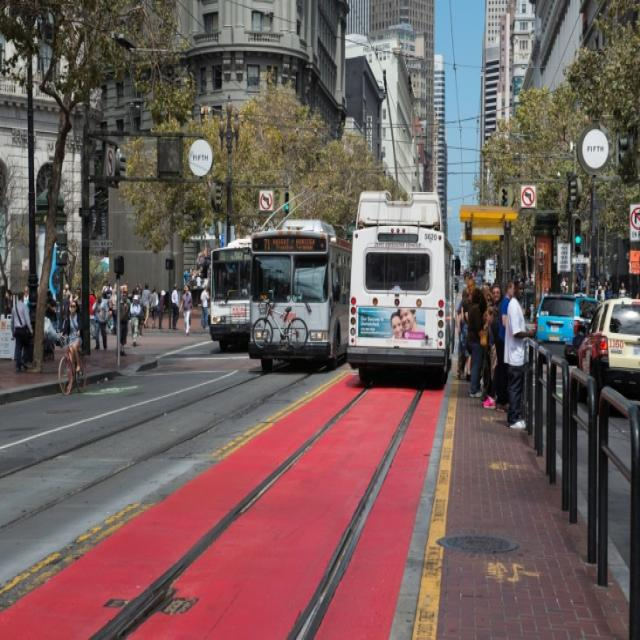body: (503, 278, 536, 431), (455, 282, 499, 379), (497, 280, 517, 410), (466, 287, 487, 400), (60, 299, 84, 396), (9, 290, 34, 372), (486, 284, 504, 386), (380, 304, 428, 338), (91, 290, 110, 350), (39, 298, 61, 349), (464, 277, 487, 317), (176, 284, 193, 336), (118, 289, 131, 355), (130, 292, 142, 348), (557, 274, 589, 294), (132, 283, 143, 337), (108, 285, 120, 334), (141, 281, 153, 330), (199, 282, 211, 331), (61, 285, 72, 338), (181, 263, 210, 282), (169, 282, 180, 331), (148, 285, 160, 329), (88, 287, 97, 341), (119, 287, 132, 320), (158, 288, 167, 330), (72, 286, 83, 314), (4, 289, 12, 320), (484, 290, 495, 308), (600, 284, 608, 308), (22, 286, 30, 306), (595, 280, 603, 300), (618, 281, 627, 298), (604, 285, 614, 299), (105, 282, 113, 299), (604, 280, 610, 295), (596, 288, 602, 300)
